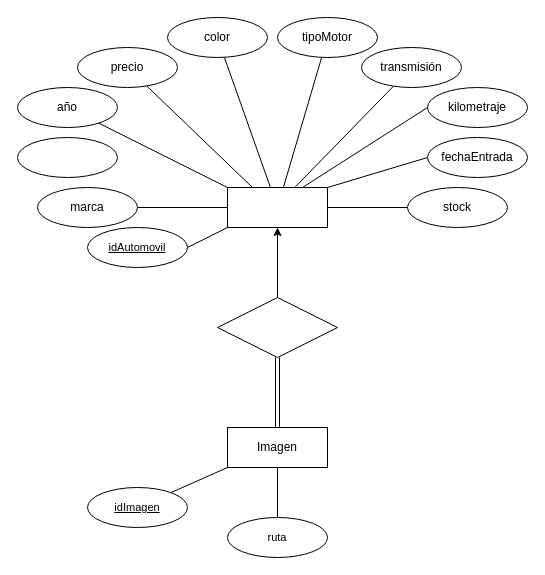
Image size: 545x575. Some labels were removed from this diagram. The shapes that lost their labels are listed below. From the top down, each one's box as (x1, y1, x2, y2) in pixels, then its label:
(16, 136, 118, 178): modelo
(226, 186, 328, 228): Automovil
(216, 296, 338, 358): Tener
